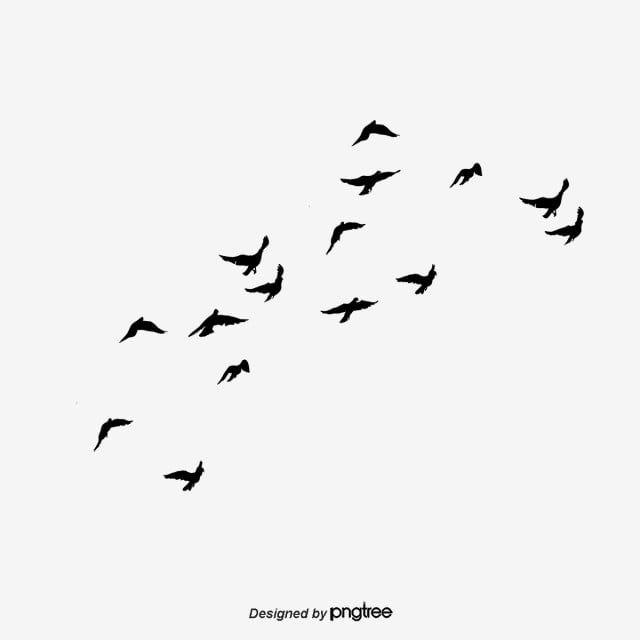bird: (83, 398, 138, 457), (180, 301, 251, 343), (315, 285, 379, 330), (106, 307, 172, 350), (342, 111, 407, 152), (387, 257, 446, 301), (159, 453, 216, 495), (205, 352, 255, 392), (440, 157, 495, 192)
